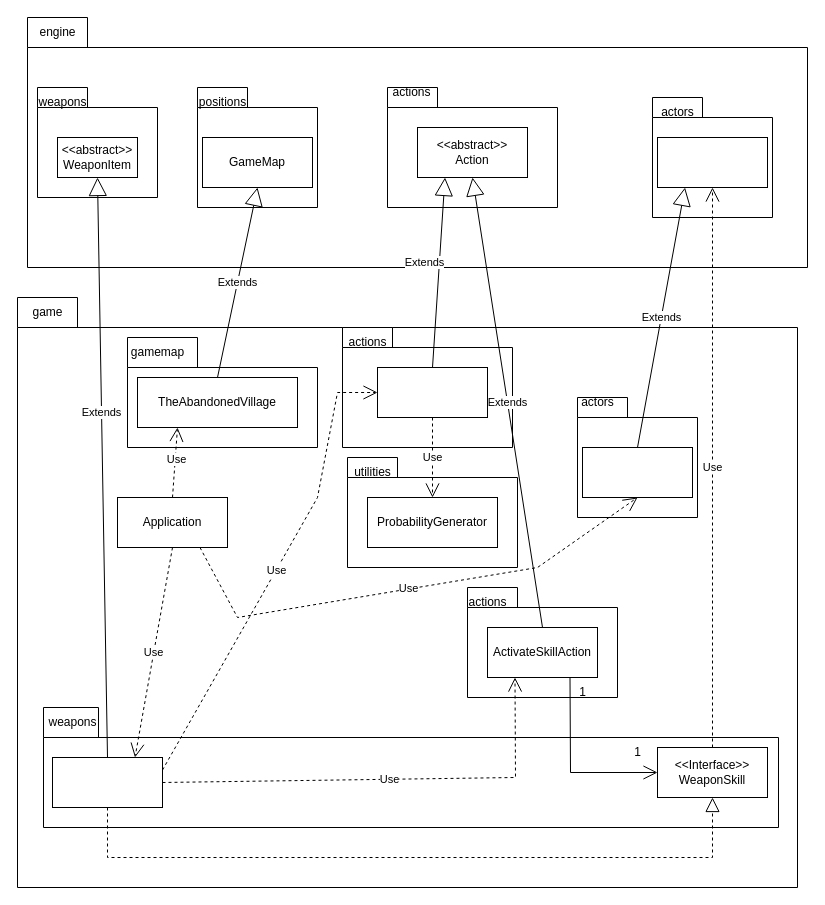
Image size: 825x905. Some labels were removed from this diagram. Here are the shapes that lost their labels. From the top down, the box of each, then its label:
(656, 136, 768, 188): <<abstract>> Actor
(376, 366, 488, 418): AttackAction
(582, 446, 692, 498): Player
(52, 756, 162, 808): Broadsword
